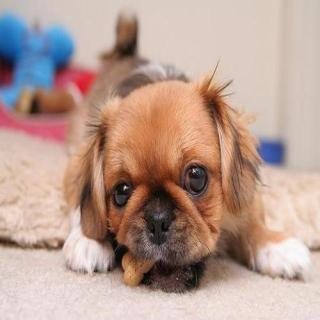dog: (67, 76, 259, 290)
nose: (138, 205, 182, 245)
